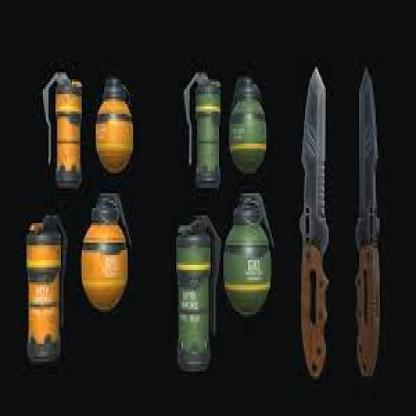Grenade: (177, 213, 221, 374), (24, 213, 69, 368), (224, 191, 276, 319), (80, 193, 133, 312), (43, 73, 85, 192), (184, 71, 223, 193), (93, 70, 136, 175), (228, 75, 268, 176)
Knife: (300, 67, 331, 380), (357, 67, 383, 379)
